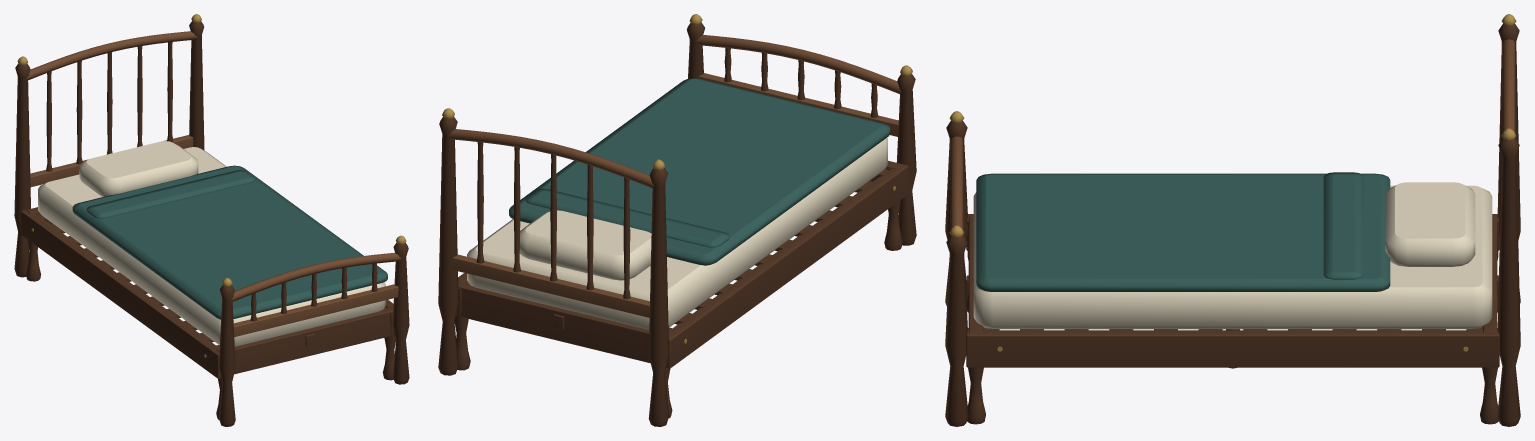
Rendered from rpg-mansion-spindle-single-bed-01.glb.
3 views of the same model, side by side, from view 1: azimuth 30°, elevation 25°; view 2: azimuth 150°, elevation 25°; view 3: azimuth 270°, elevation 25° (orthographic). The views are drawn at different scales.
Parts seen in each view (by area): view 1: rpg-mansion-spindle-single-bed-01; view 2: rpg-mansion-spindle-single-bed-01; view 3: rpg-mansion-spindle-single-bed-01.
Boxes of the visible parts, x1,y1,x2,y2 form: rpg-mansion-spindle-single-bed-01: (14, 14, 409, 426); rpg-mansion-spindle-single-bed-01: (438, 14, 916, 426); rpg-mansion-spindle-single-bed-01: (945, 14, 1520, 426).
Bounding box in the file's own units: 1.1 × 1.21 × 2.15.
